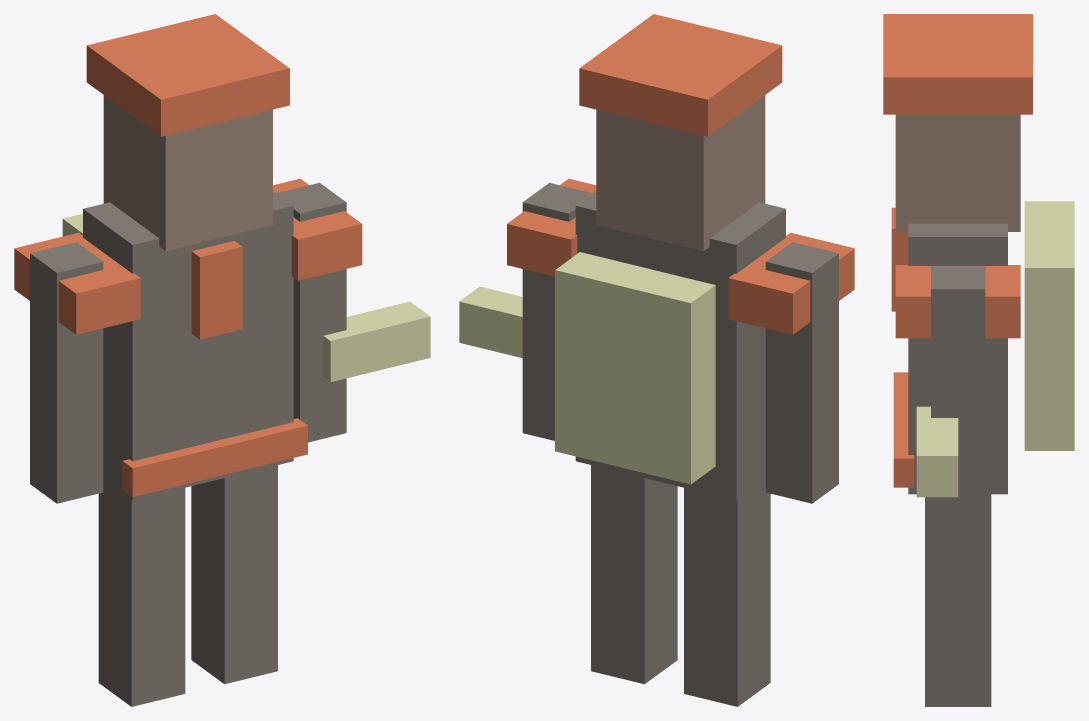
File: 14_noor_spirebound_engineer_of_catalog.glb
3 views of the same model, side by side, from view 1: azimuth 30°, elevation 25°; view 2: azimuth 150°, elevation 25°; view 3: azimuth 270°, elevation 25° (orthographic).
Visible parts, largest first — view 1: Noor Spirebound, Engineer of Catalog; view 2: Noor Spirebound, Engineer of Catalog; view 3: Noor Spirebound, Engineer of Catalog.
Part boxes in pixels (x1,y1,x2,y2): Noor Spirebound, Engineer of Catalog: (14,14,430,706); Noor Spirebound, Engineer of Catalog: (459,14,854,706); Noor Spirebound, Engineer of Catalog: (883,14,1074,706).
Bounding box in the file's own units: 0.9828 × 1.59 × 0.4411.
